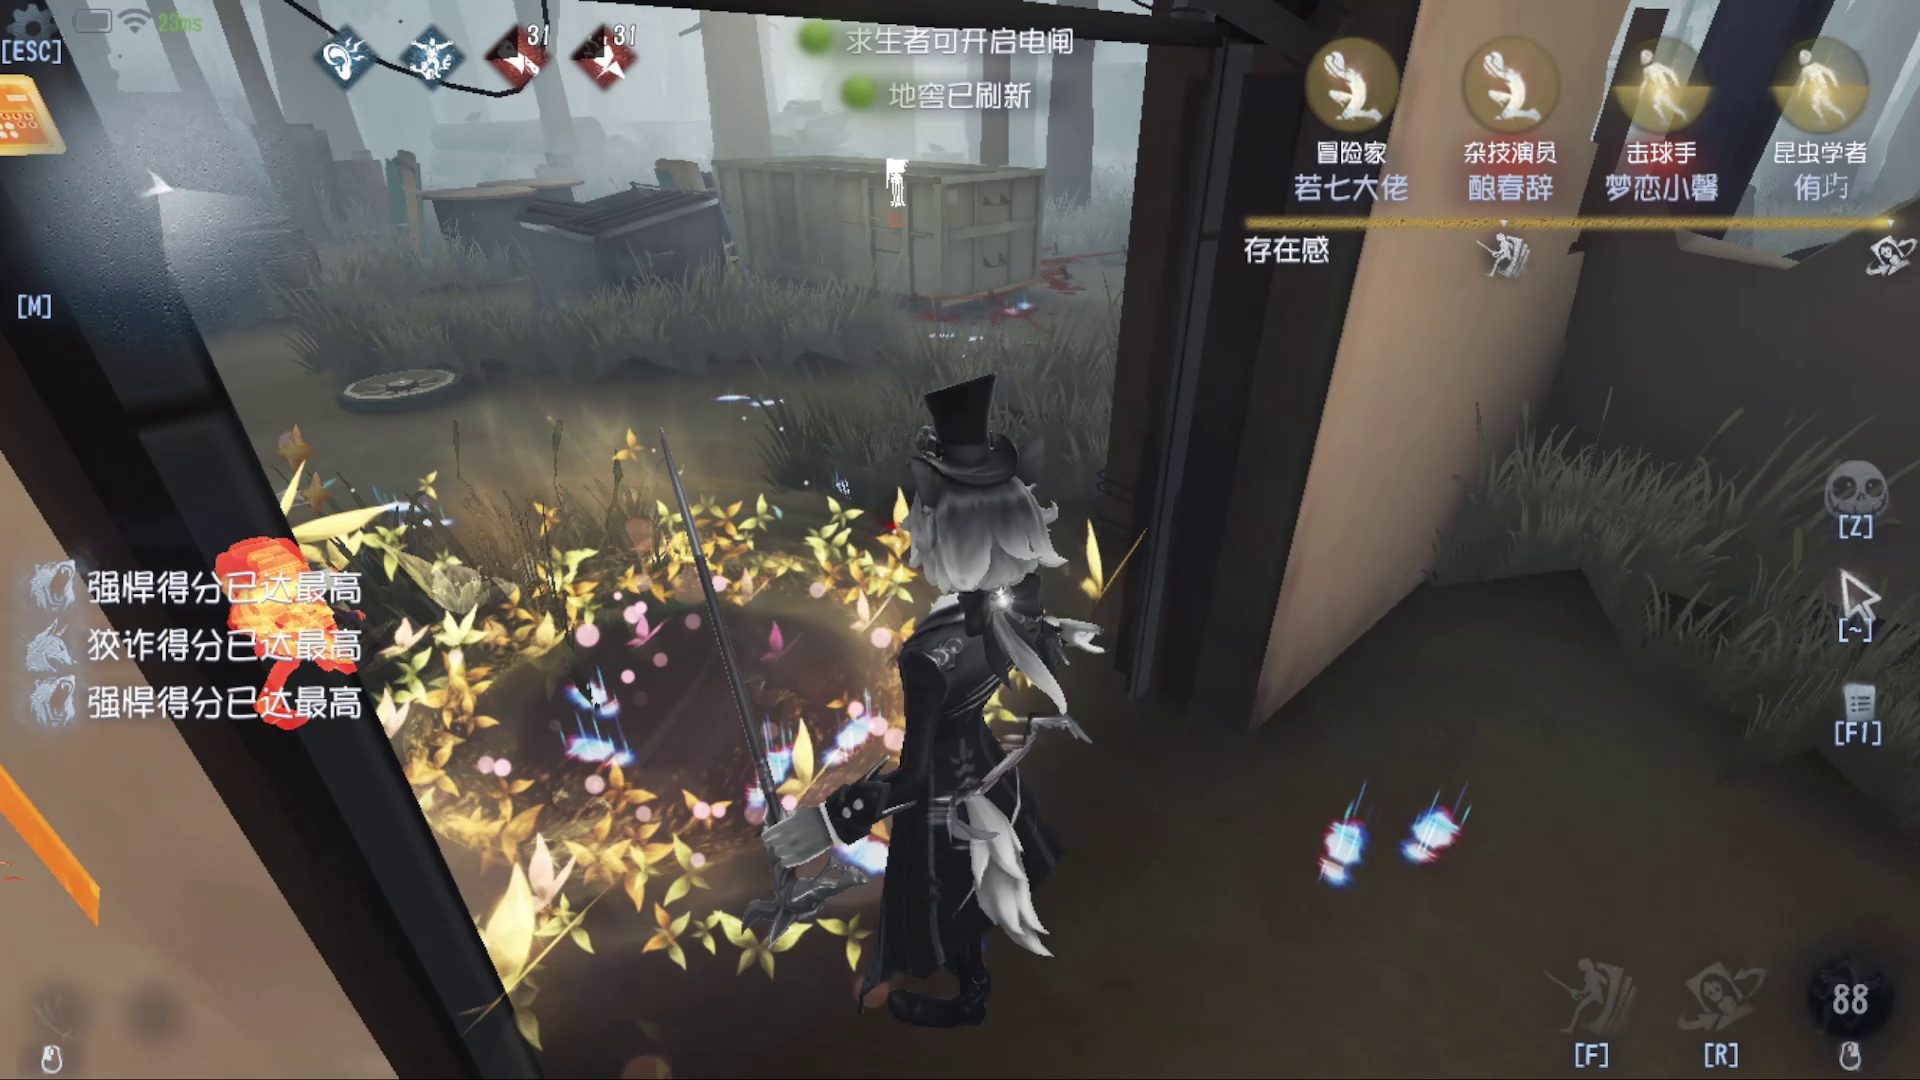木板: (640, 131, 746, 294), (375, 152, 463, 272)
脚印: (947, 284, 1081, 336)
